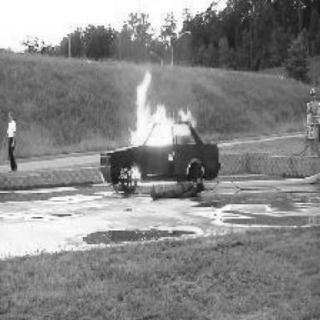Fire: (91, 65, 217, 193)
